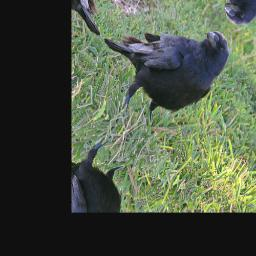Crow: (81, 0, 238, 156)
